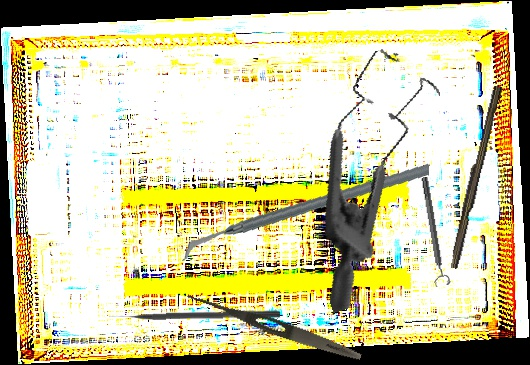Chopper: (182, 139, 430, 286)
Dressing Forceps: (184, 289, 364, 365)
Fixation Ring: (417, 175, 451, 288)
Pusher: (108, 308, 281, 321)
Scalpel Handle: (446, 84, 503, 270)
Speculum: (263, 36, 493, 314)
